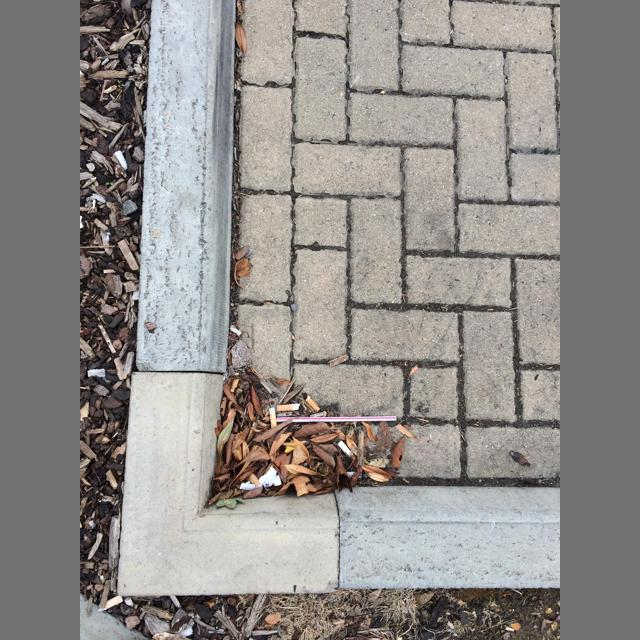litter: (240, 466, 281, 490), (277, 416, 396, 422), (104, 595, 123, 611), (305, 395, 320, 412), (115, 151, 127, 171), (338, 441, 353, 456), (269, 407, 277, 429), (277, 404, 300, 411)
